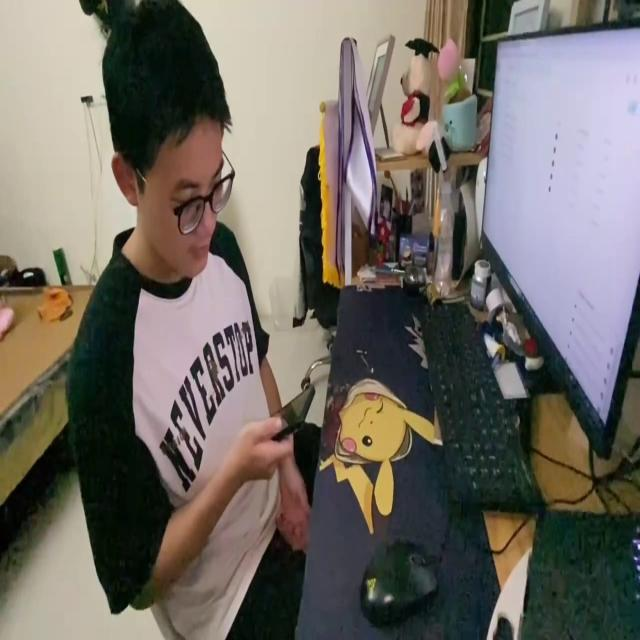laptop: (476, 16, 640, 462)
phone: (264, 376, 316, 446)
student: (65, 0, 320, 632)
